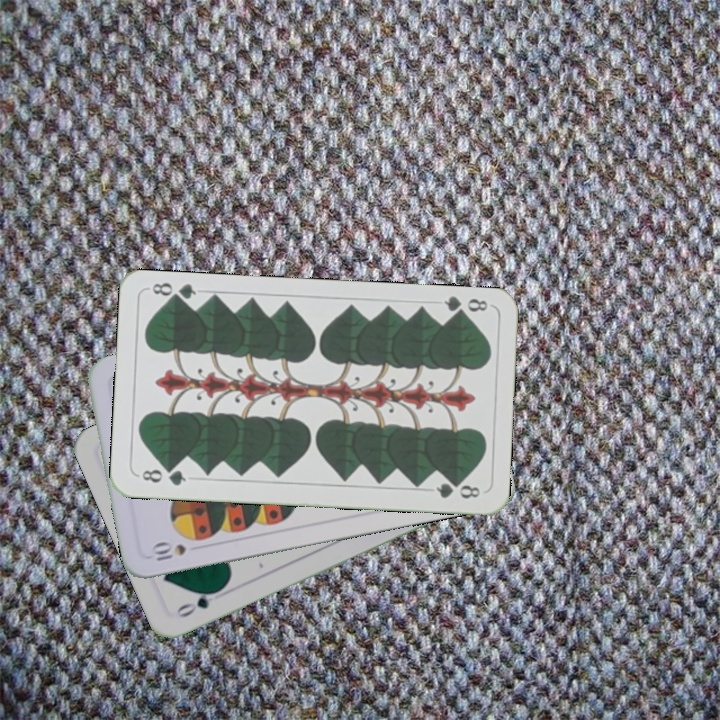G8: (440, 292, 491, 320), (134, 464, 188, 489)
GO: (172, 584, 225, 621)
S10: (150, 539, 188, 564)
